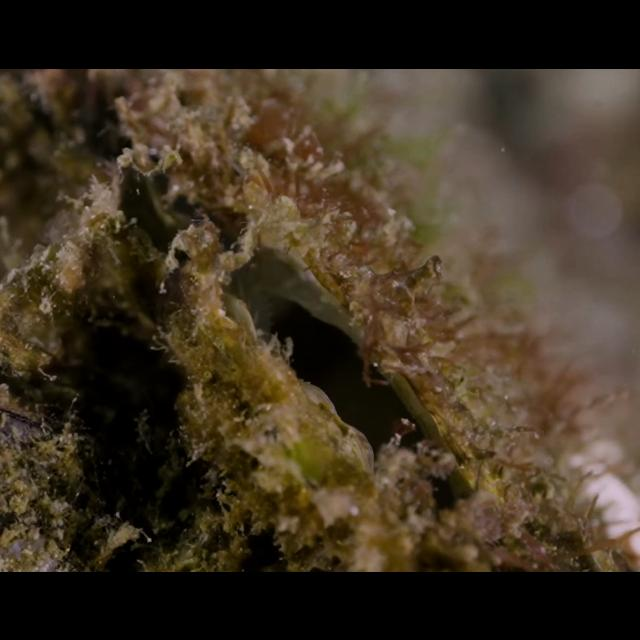Oyster-Open: (61, 78, 614, 570)
